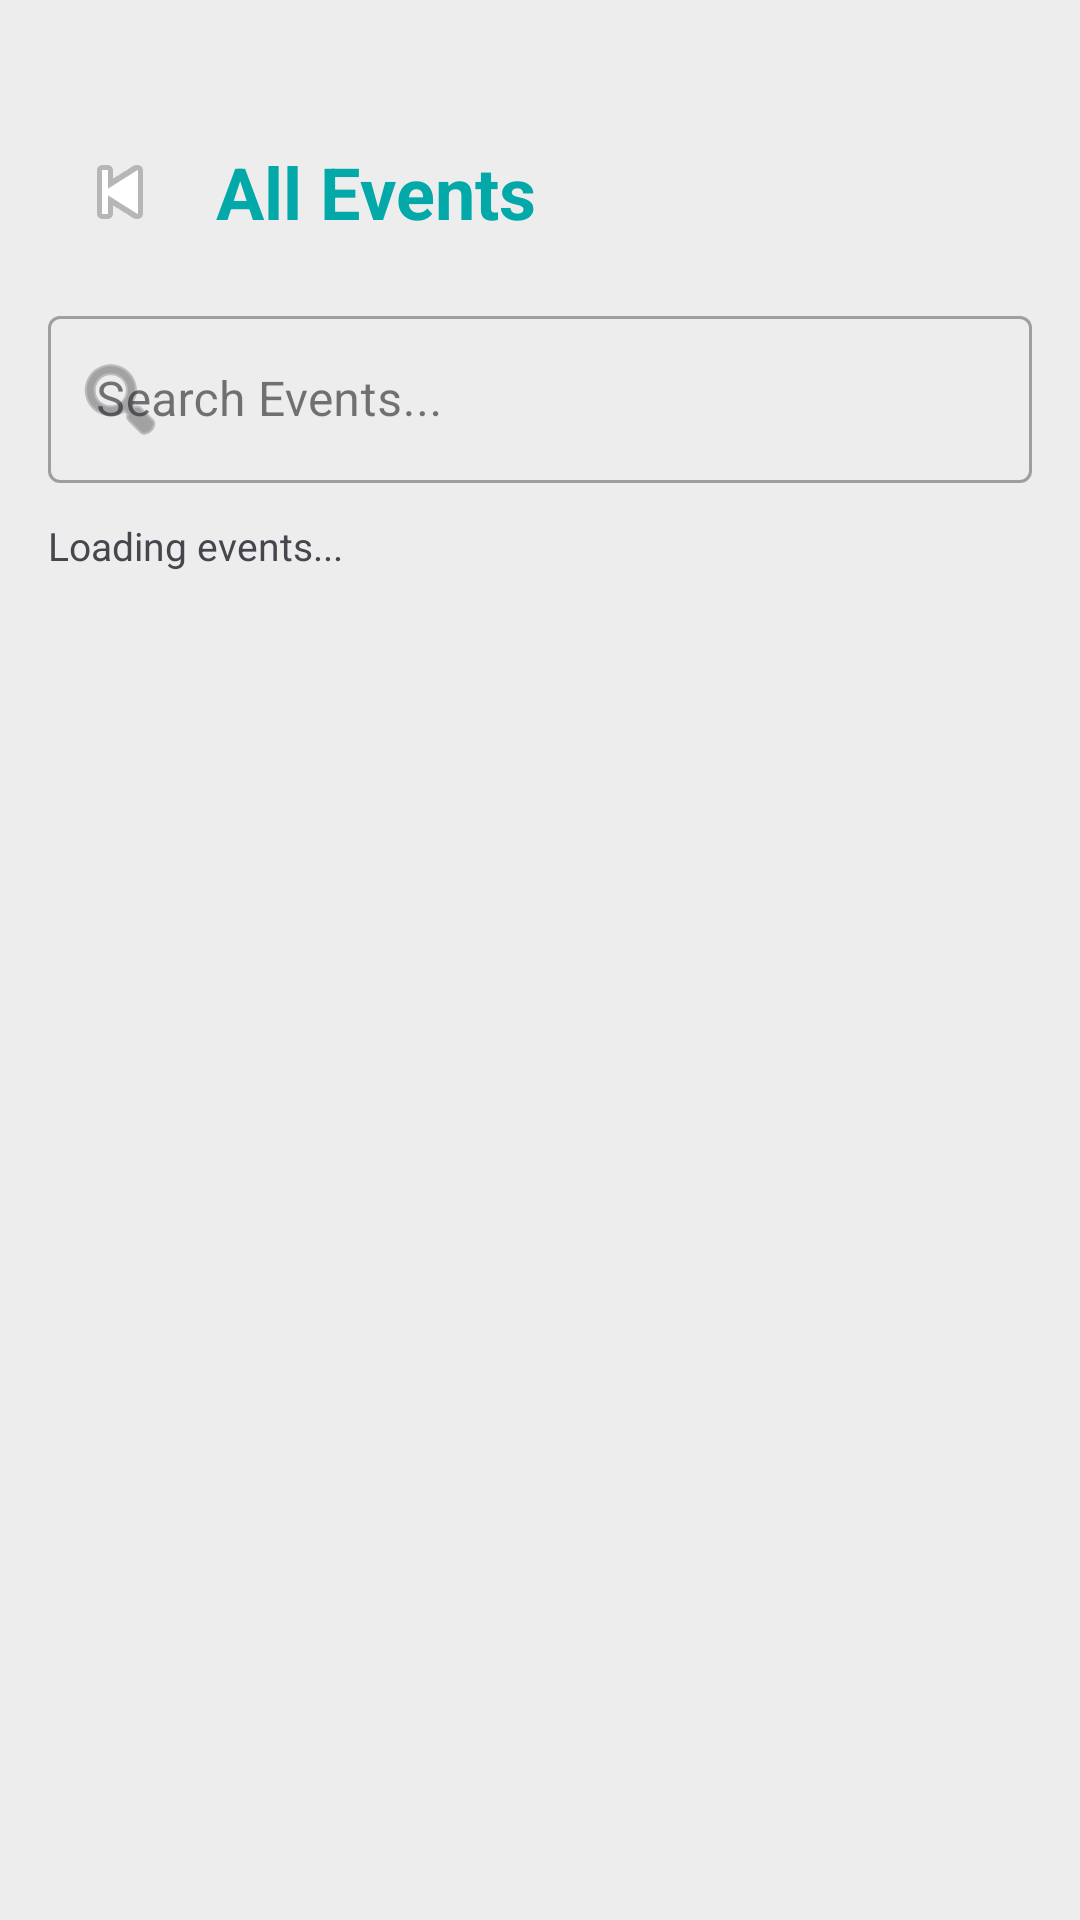

Icons on this 1080×1920 Android screen, each with its box as (x1, y1, x2, y2):
Back: (97, 165, 143, 219)
